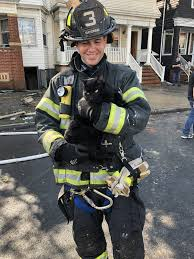emergent: (35, 1, 151, 259)
